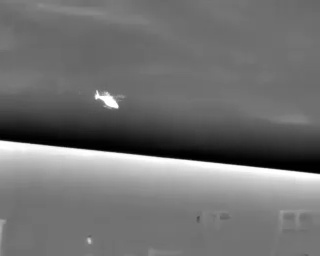HELICOPTER: (91, 85, 131, 116)
